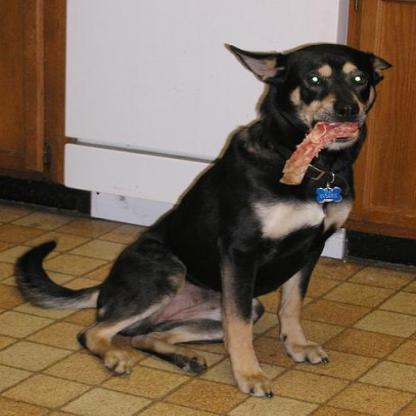kelpie: (13, 41, 393, 399)
